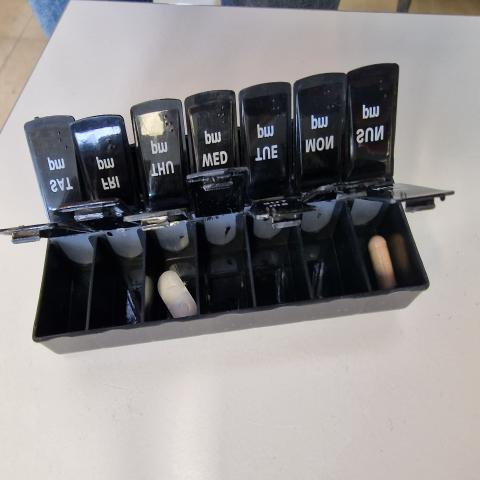Open: (54, 198, 140, 332), (341, 193, 453, 292), (2, 223, 87, 337), (187, 169, 254, 312), (301, 189, 376, 304), (125, 211, 196, 322), (246, 209, 310, 307), (120, 115, 140, 212), (233, 92, 240, 169), (292, 86, 297, 184)
